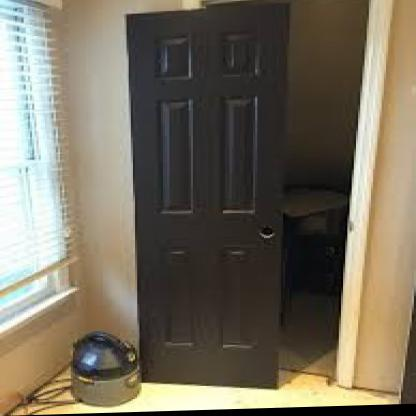door: (127, 11, 290, 391)
